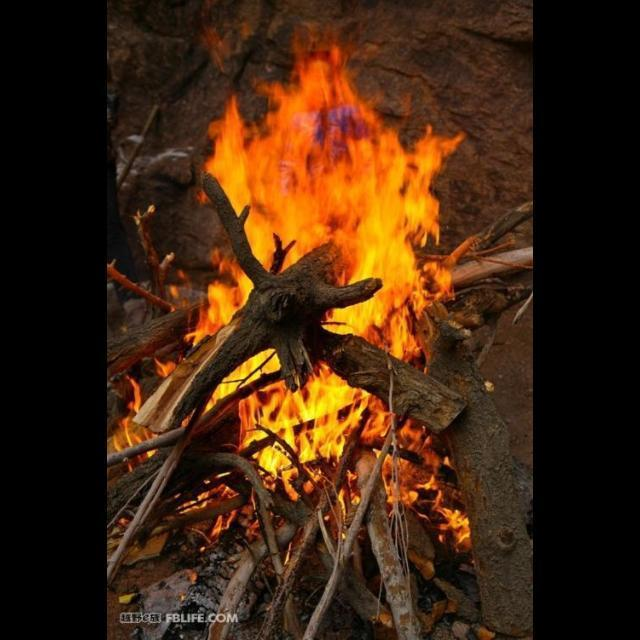Fire: (113, 21, 470, 580)
